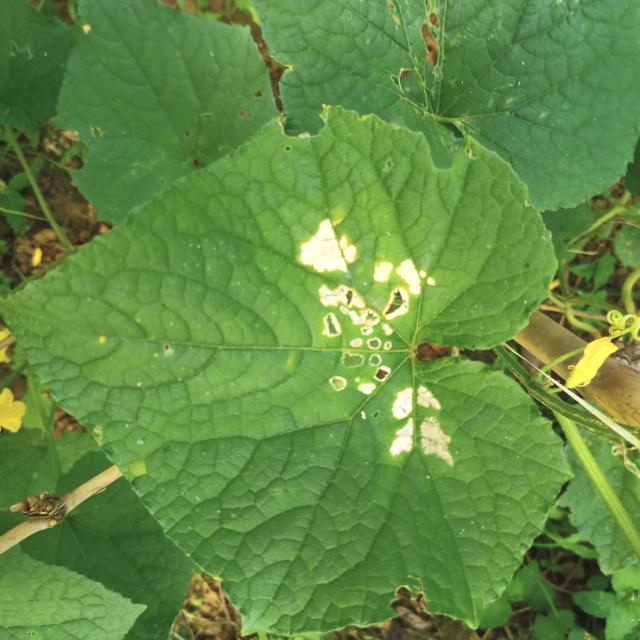disease_cucumber: (288, 209, 439, 400), (381, 382, 461, 467)
